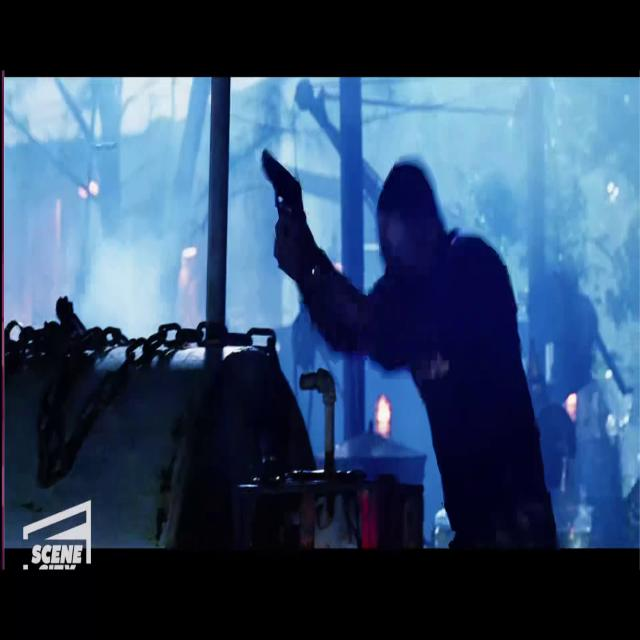weapons: (251, 135, 309, 286)
